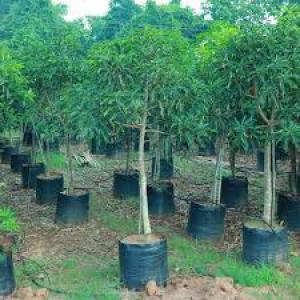Tree: (85, 23, 196, 285), (216, 12, 297, 267)
